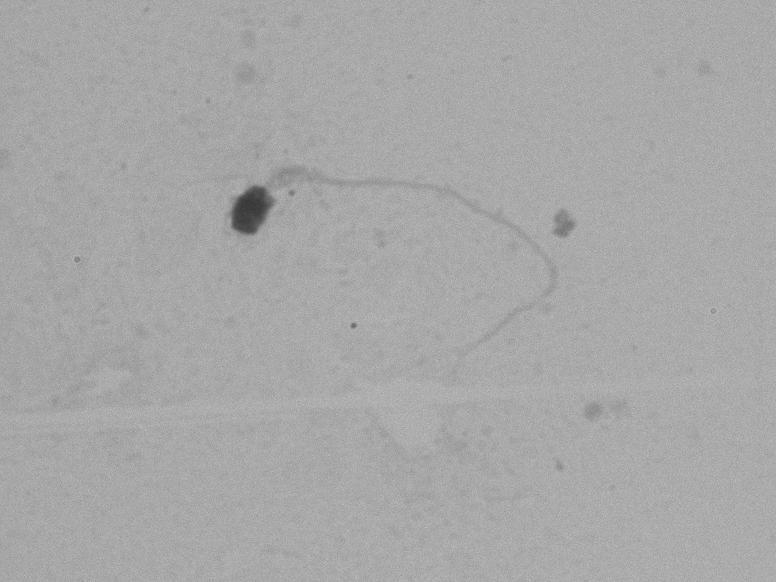Abnormal: (190, 120, 579, 396)
